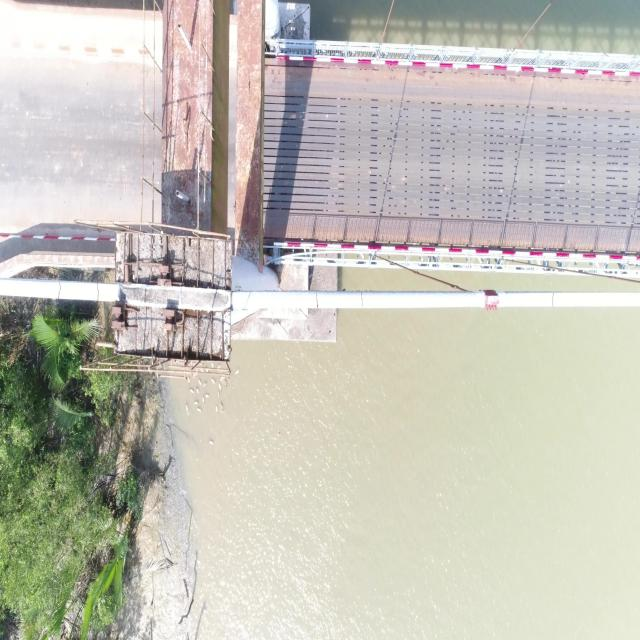crack: (96, 283, 99, 301), (58, 281, 61, 298), (316, 292, 318, 308), (361, 292, 363, 307), (552, 292, 554, 307)
